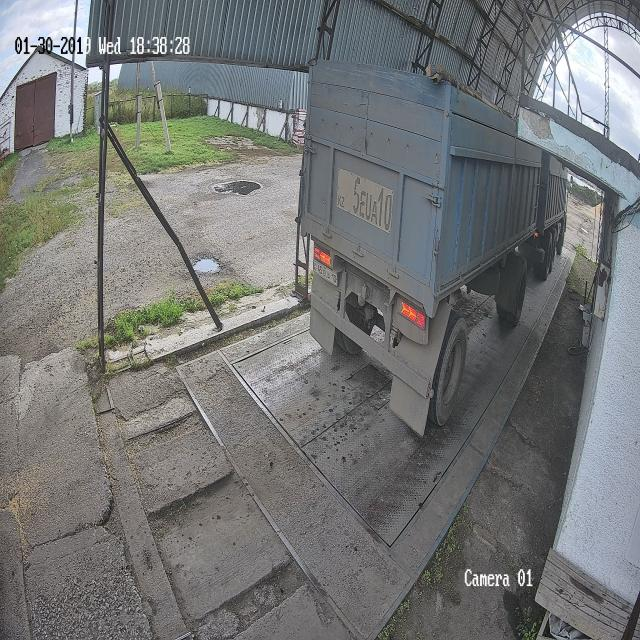license plate: (336, 167, 394, 233), (314, 259, 338, 286)
trailer: (299, 61, 541, 434)
truck: (518, 151, 567, 279)
